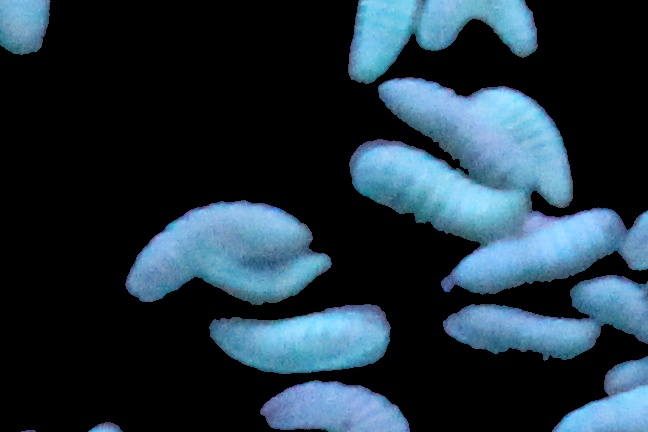larvae: (353, 141, 528, 233), (443, 210, 624, 298), (384, 78, 516, 174), (212, 304, 387, 376), (475, 81, 571, 205), (129, 214, 280, 284), (440, 308, 596, 357), (256, 384, 414, 432), (205, 250, 331, 305), (416, 1, 535, 58), (341, 1, 412, 80), (570, 273, 648, 338), (548, 387, 648, 432), (1, 1, 52, 55), (598, 354, 648, 395)
